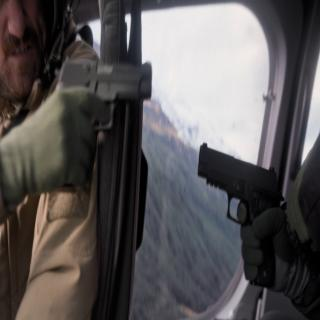gun: (46, 56, 158, 196), (196, 132, 285, 296)
